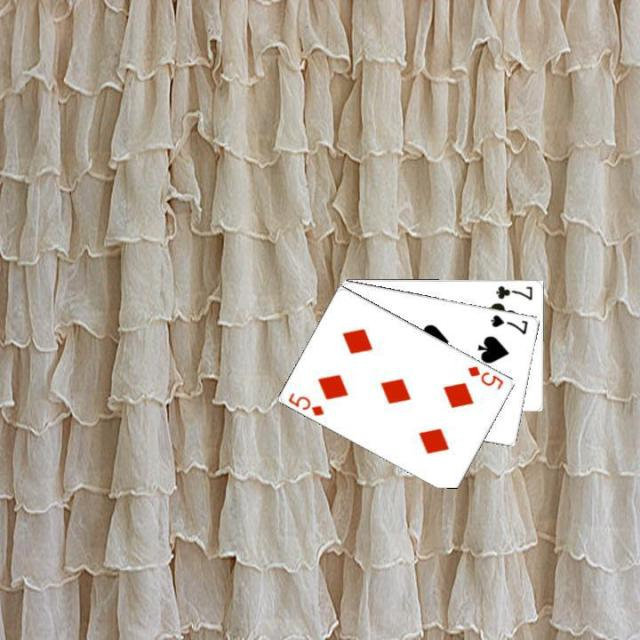5D: (284, 388, 326, 418), (464, 362, 506, 391)
7C: (492, 282, 534, 301)
7S: (487, 310, 530, 336)
